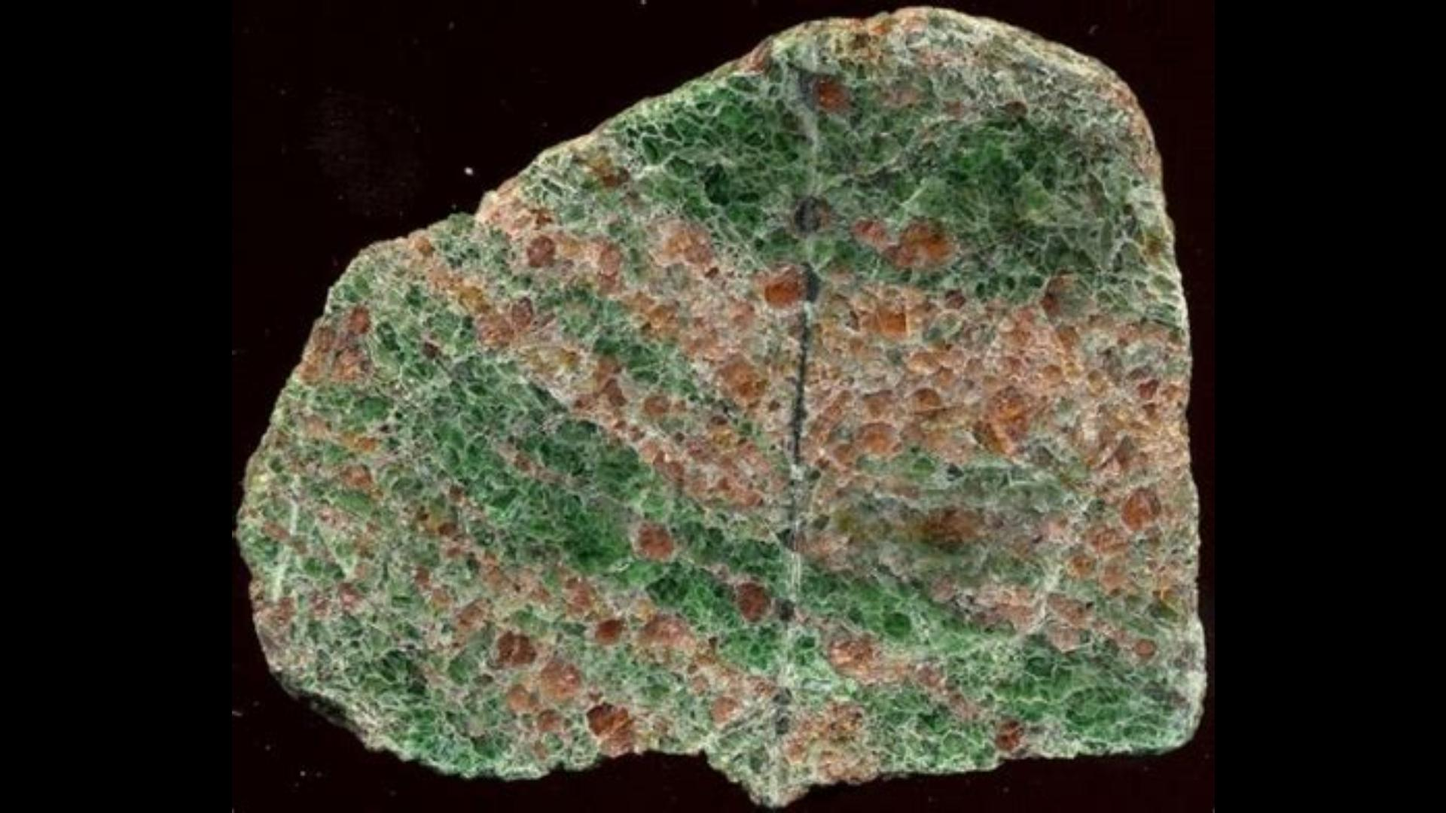rock: (244, 10, 1202, 803)
